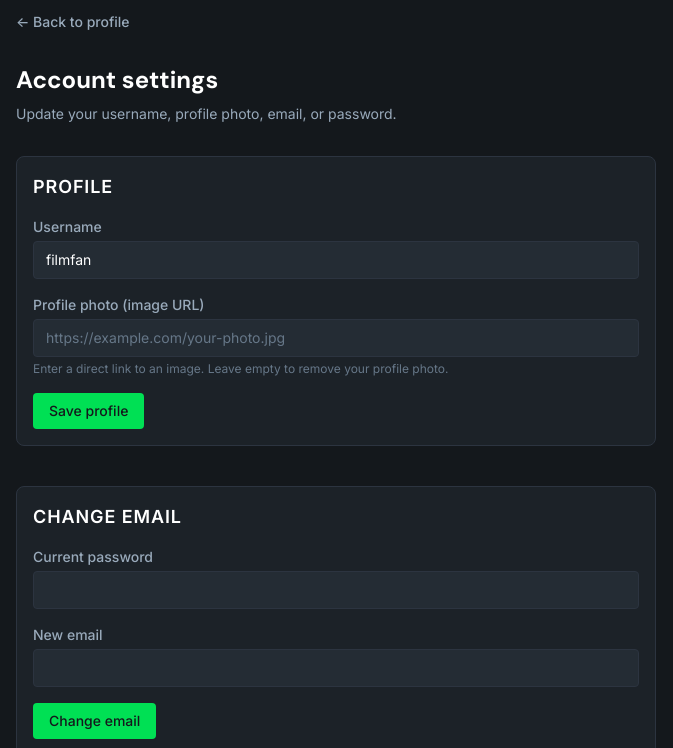
Test: SettingsPage › authenticated – Profile form › displays error when updateProfile fails
Click the button "Save profile".
click(89, 411)  # box 33,393 -> 144,429
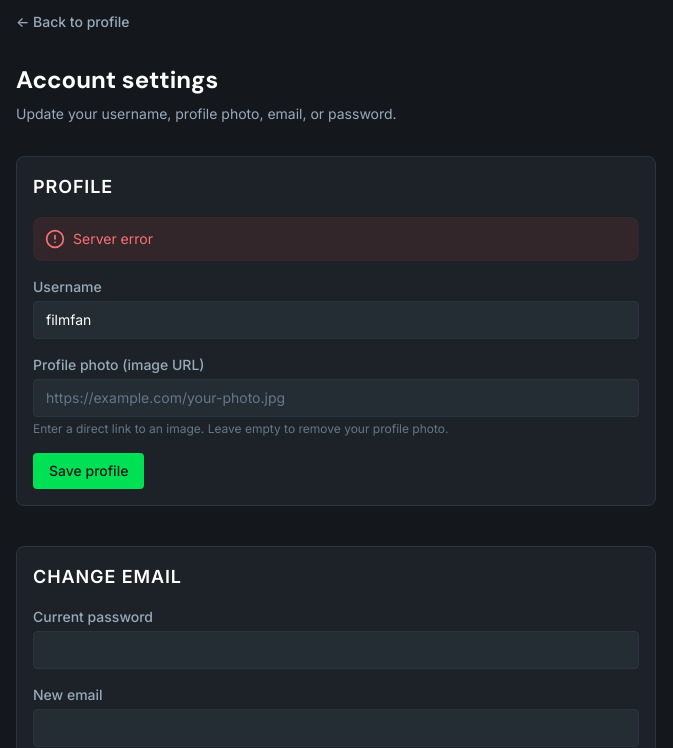
Now the text "Server error" is shown, box 73,229 -> 153,249
